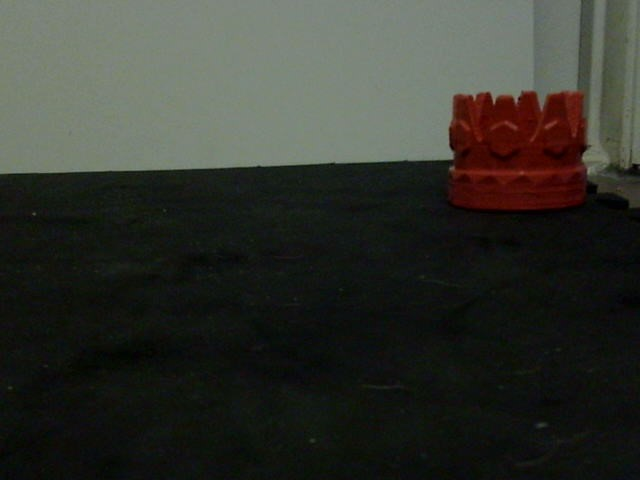crown: (444, 89, 592, 213)
